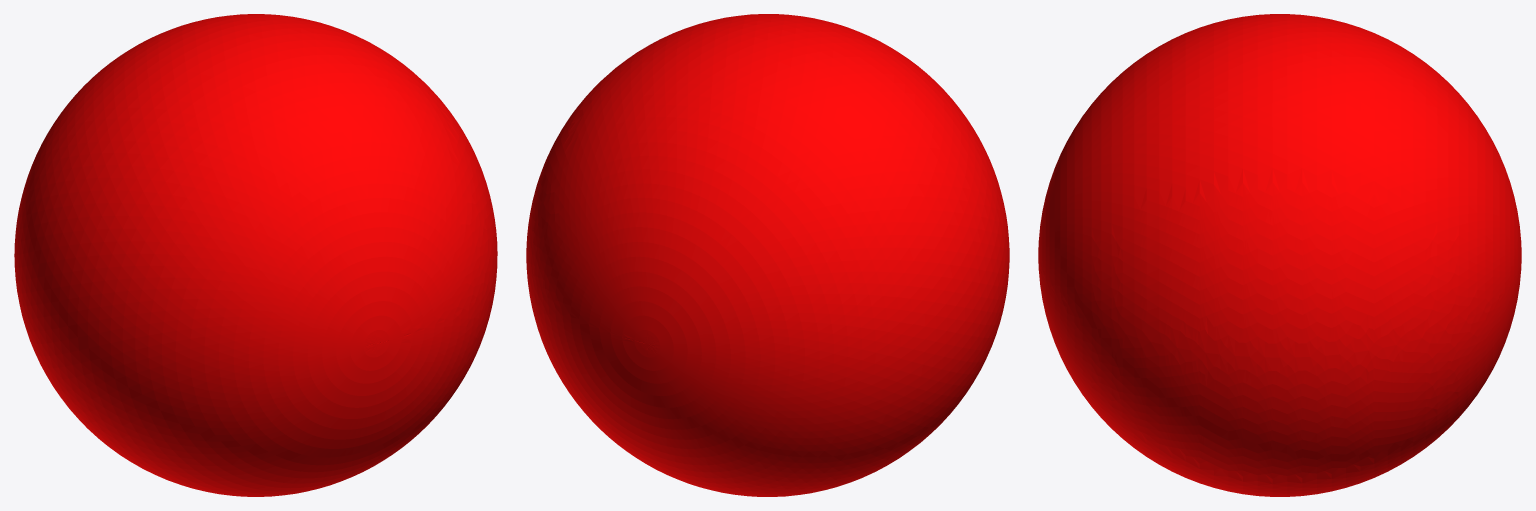
Rendered from myobj.obj.
3 renders of one model, left to right at view 1: azimuth 30°, elevation 25°; view 2: azimuth 150°, elevation 25°; view 3: azimuth 270°, elevation 25°, orthographic.
Visible parts, largest first — view 1: Sphere; view 2: Sphere; view 3: Sphere.
Part boxes in pixels (x1,y1,x2,y2): Sphere: (14, 14, 497, 496); Sphere: (526, 14, 1009, 496); Sphere: (1038, 14, 1521, 496).
Size of the model in its own units: 10 by 9.99 by 10.
